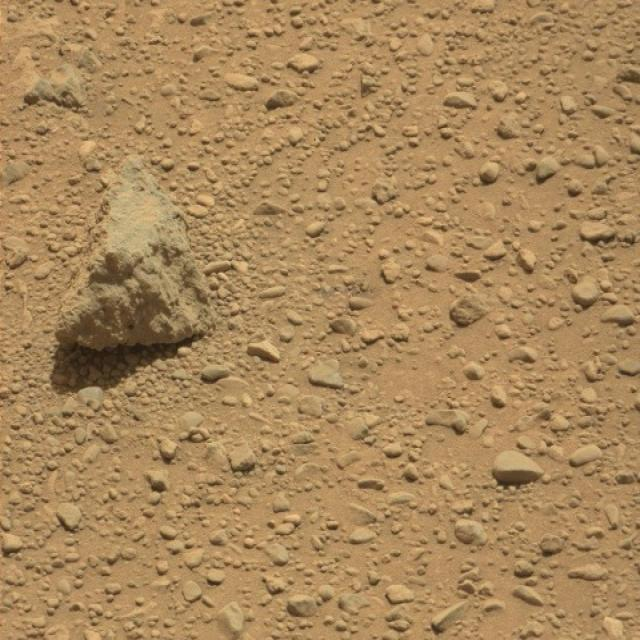rock: (54, 154, 210, 358)
